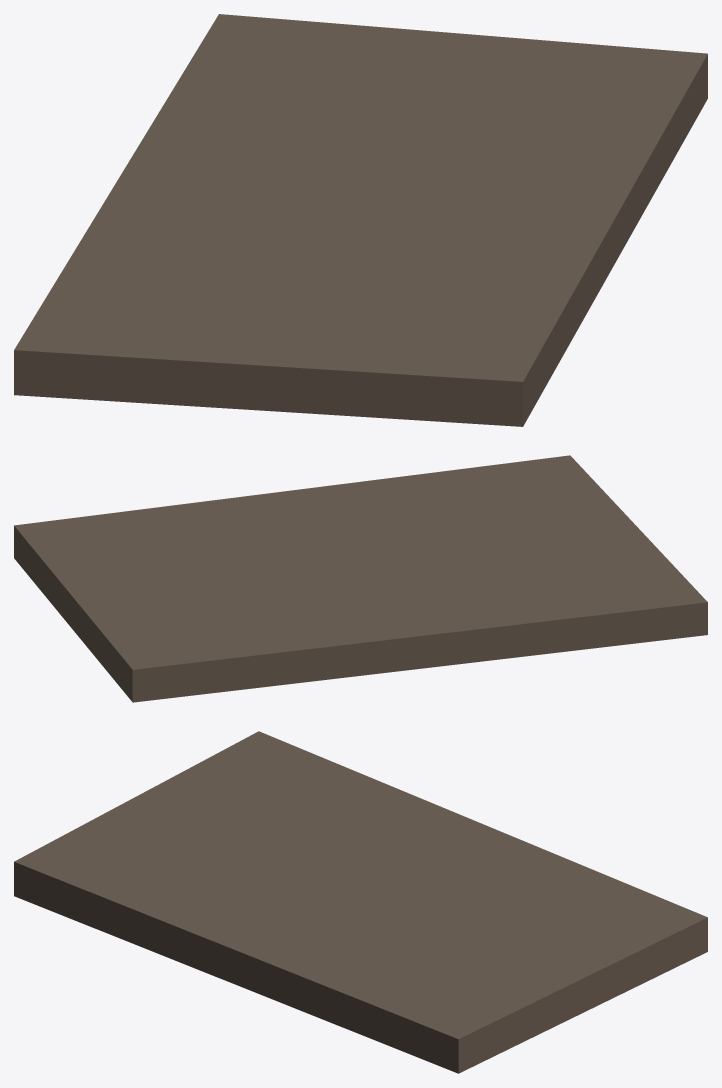
File: hr_bridge1.glb
3 renders of one model, top to bottom at view 1: azimuth 30°, elevation 25°; view 2: azimuth 150°, elevation 25°; view 3: azimuth 270°, elevation 25°, orthographic. The views are drawn at different scales.
Visible parts, largest first — view 1: hr_bridge1; view 2: hr_bridge1; view 3: hr_bridge1.
Part boxes in pixels (left/top/right/bottom): hr_bridge1: left=14, top=14, right=707, bottom=426; hr_bridge1: left=14, top=455, right=707, bottom=702; hr_bridge1: left=14, top=731, right=707, bottom=1073.
Size of the model in its own units: 10.75 by 0.5609 by 10.23.
Materials: 1 (1 with a texture image).
